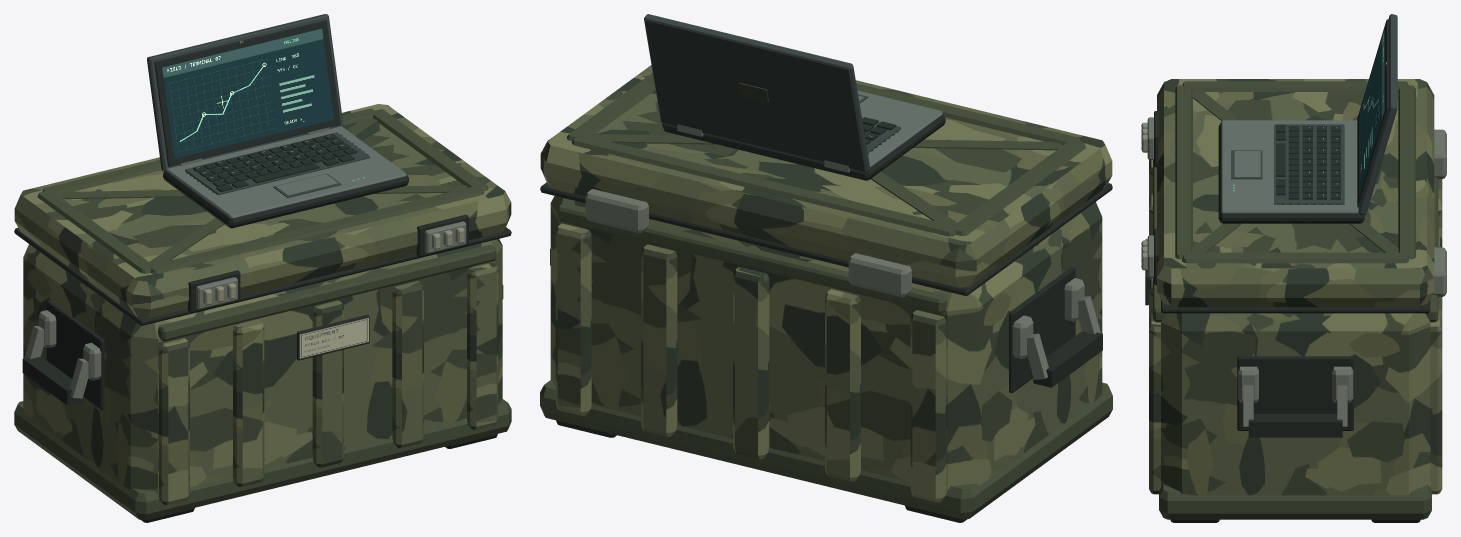
File: weapon_box_laptop.glb
3 views of the same model, side by side, from view 1: azimuth 30°, elevation 25°; view 2: azimuth 150°, elevation 25°; view 3: azimuth 270°, elevation 25° (orthographic). The views are drawn at different scales.
Parts seen in each view (by area): view 1: Crate_Body, Crate_Lid, Laptop_Screen, Laptop_Base; view 2: Crate_Body, Crate_Lid, Laptop_Screen, Laptop_Base; view 3: Crate_Body, Crate_Lid, Laptop_Base, Laptop_Screen.
Boxes of the visible parts, x1,y1,x2,y2 form: Crate_Body: (14,227,511,522); Crate_Lid: (14,104,511,318); Laptop_Screen: (147,14,343,171); Laptop_Base: (163,126,408,228); Crate_Body: (540,182,1112,522); Crate_Lid: (540,65,1112,297); Laptop_Screen: (644,14,870,172); Laptop_Base: (662,90,945,180); Crate_Body: (1145,160,1442,522); Crate_Lid: (1141,79,1446,307); Laptop_Base: (1218,120,1364,223); Laptop_Screen: (1357,14,1397,215).
Size of the model in its own units: 1.64 by 1.3 by 0.943.
Materials: 13 (3 with a texture image).
